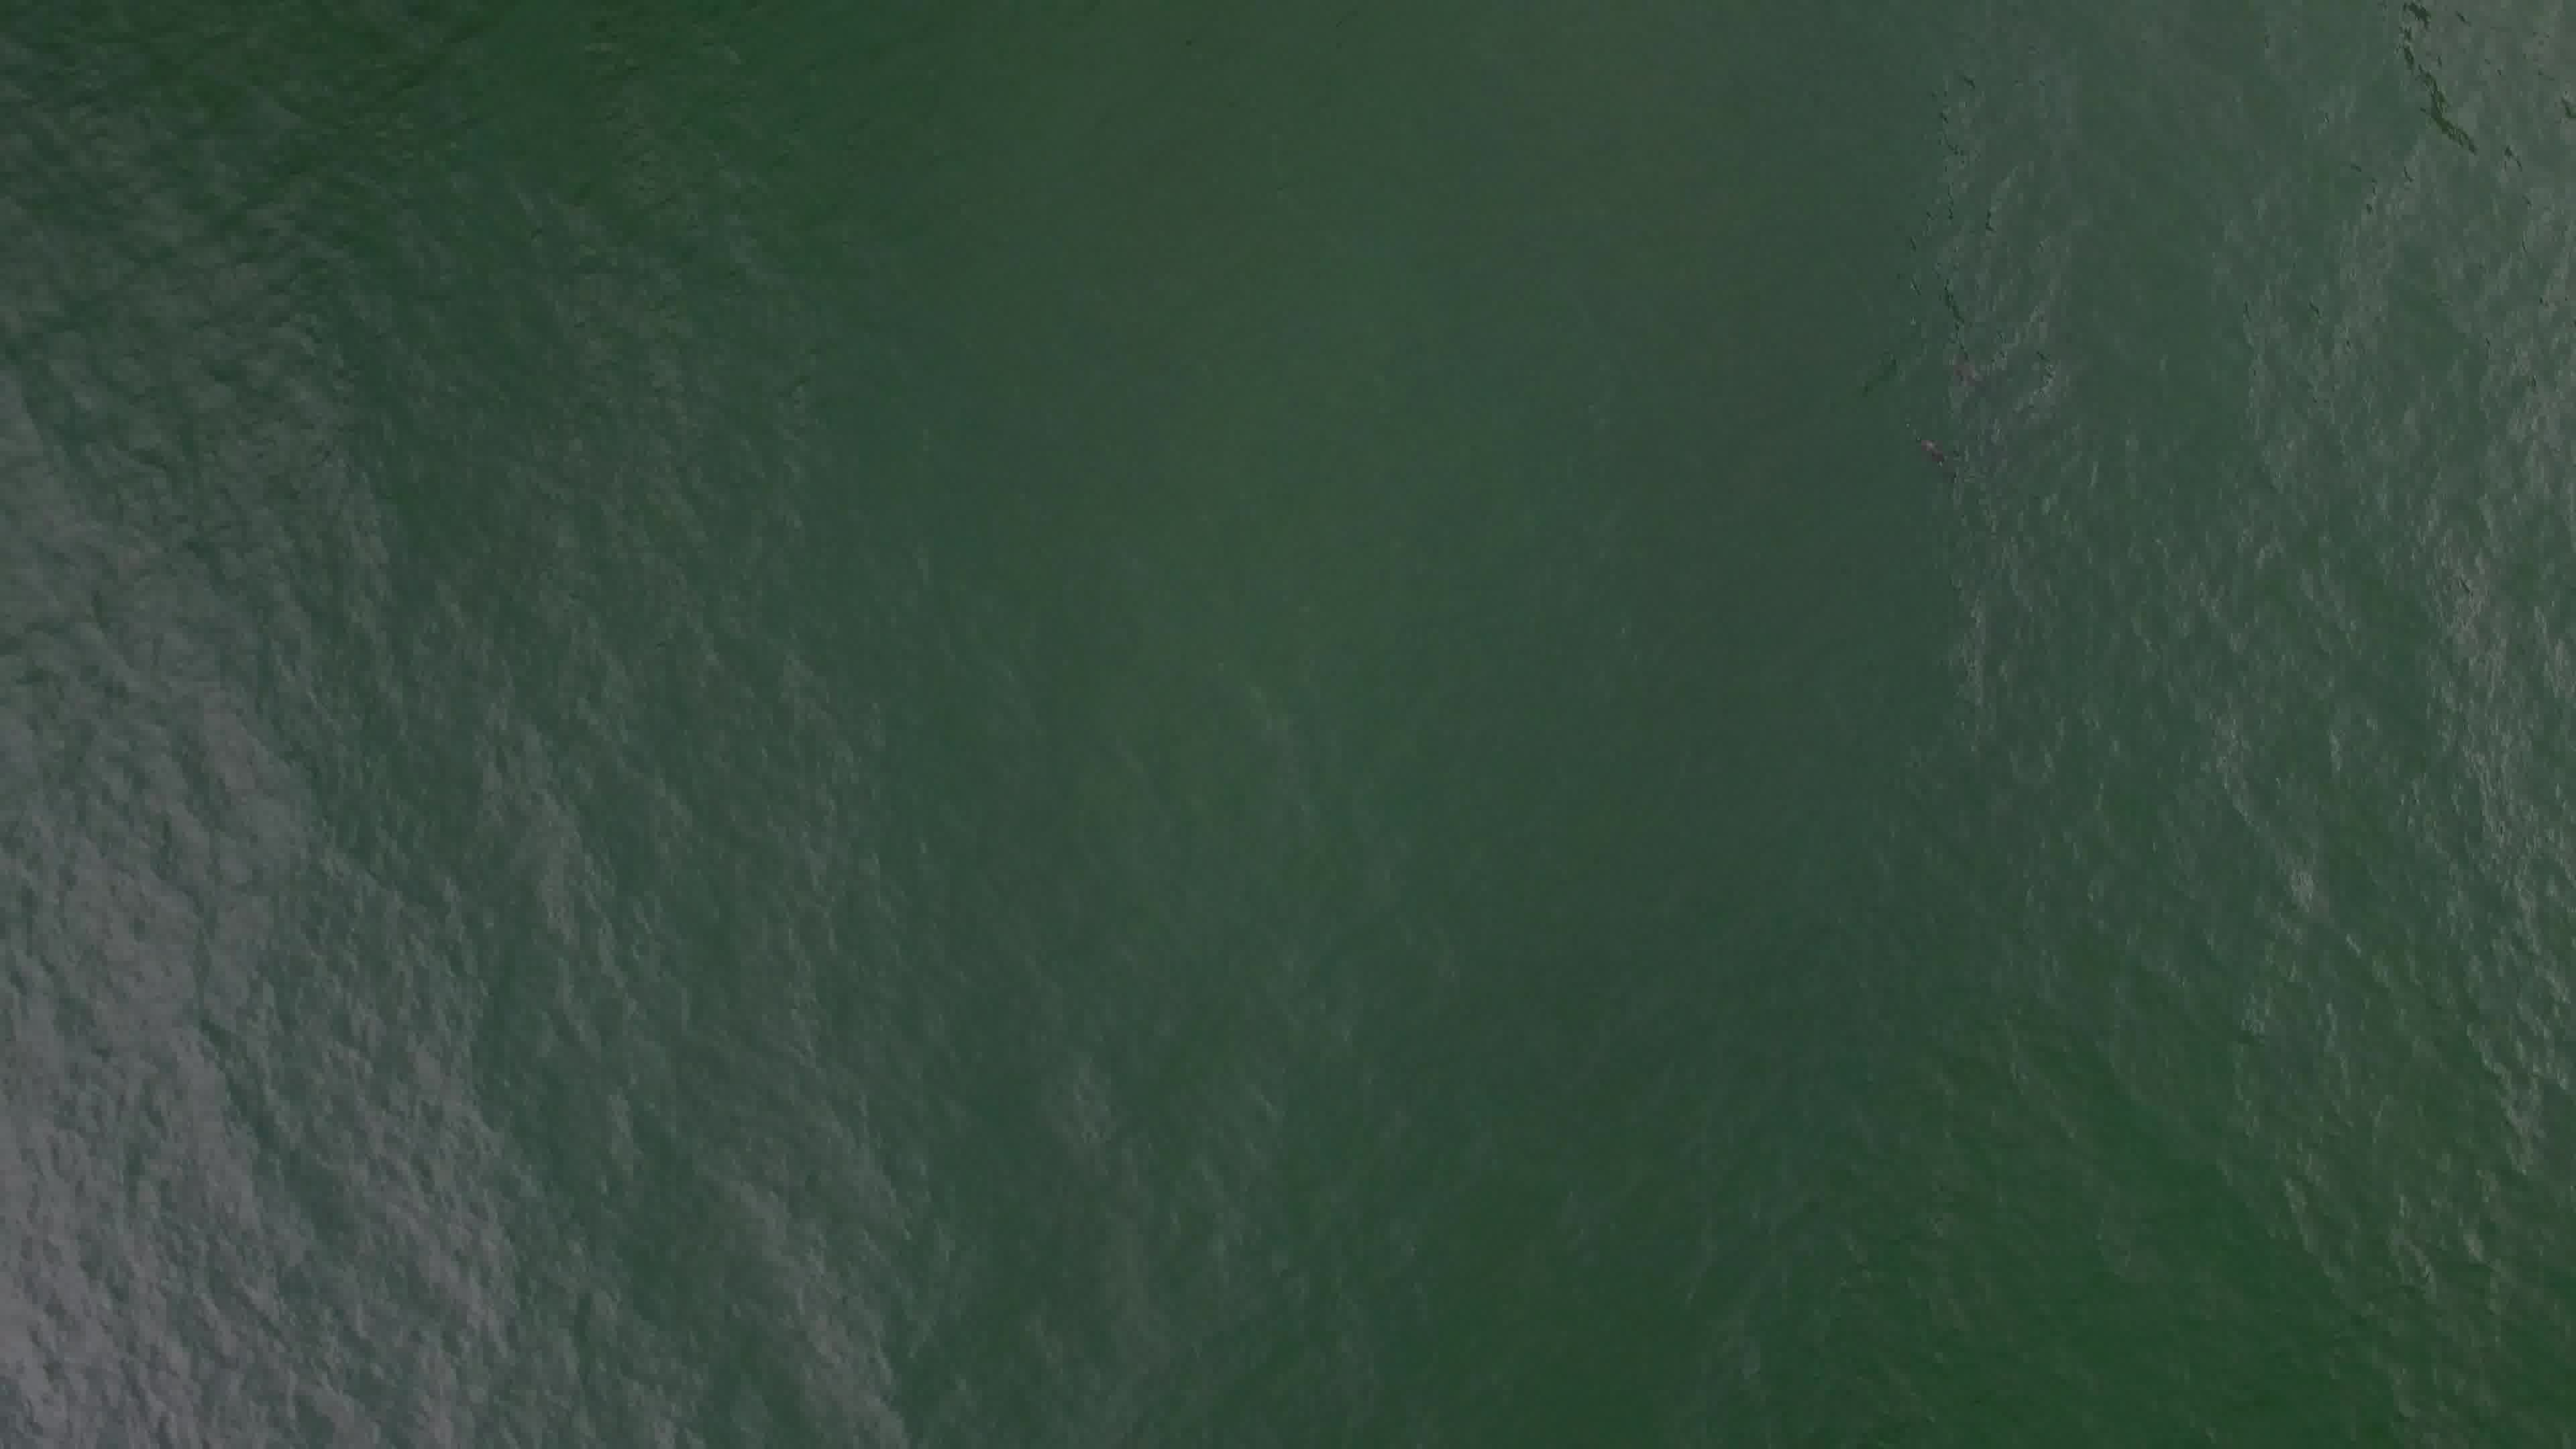dolphin: (1936, 327, 2005, 425), (1888, 409, 1966, 494)
